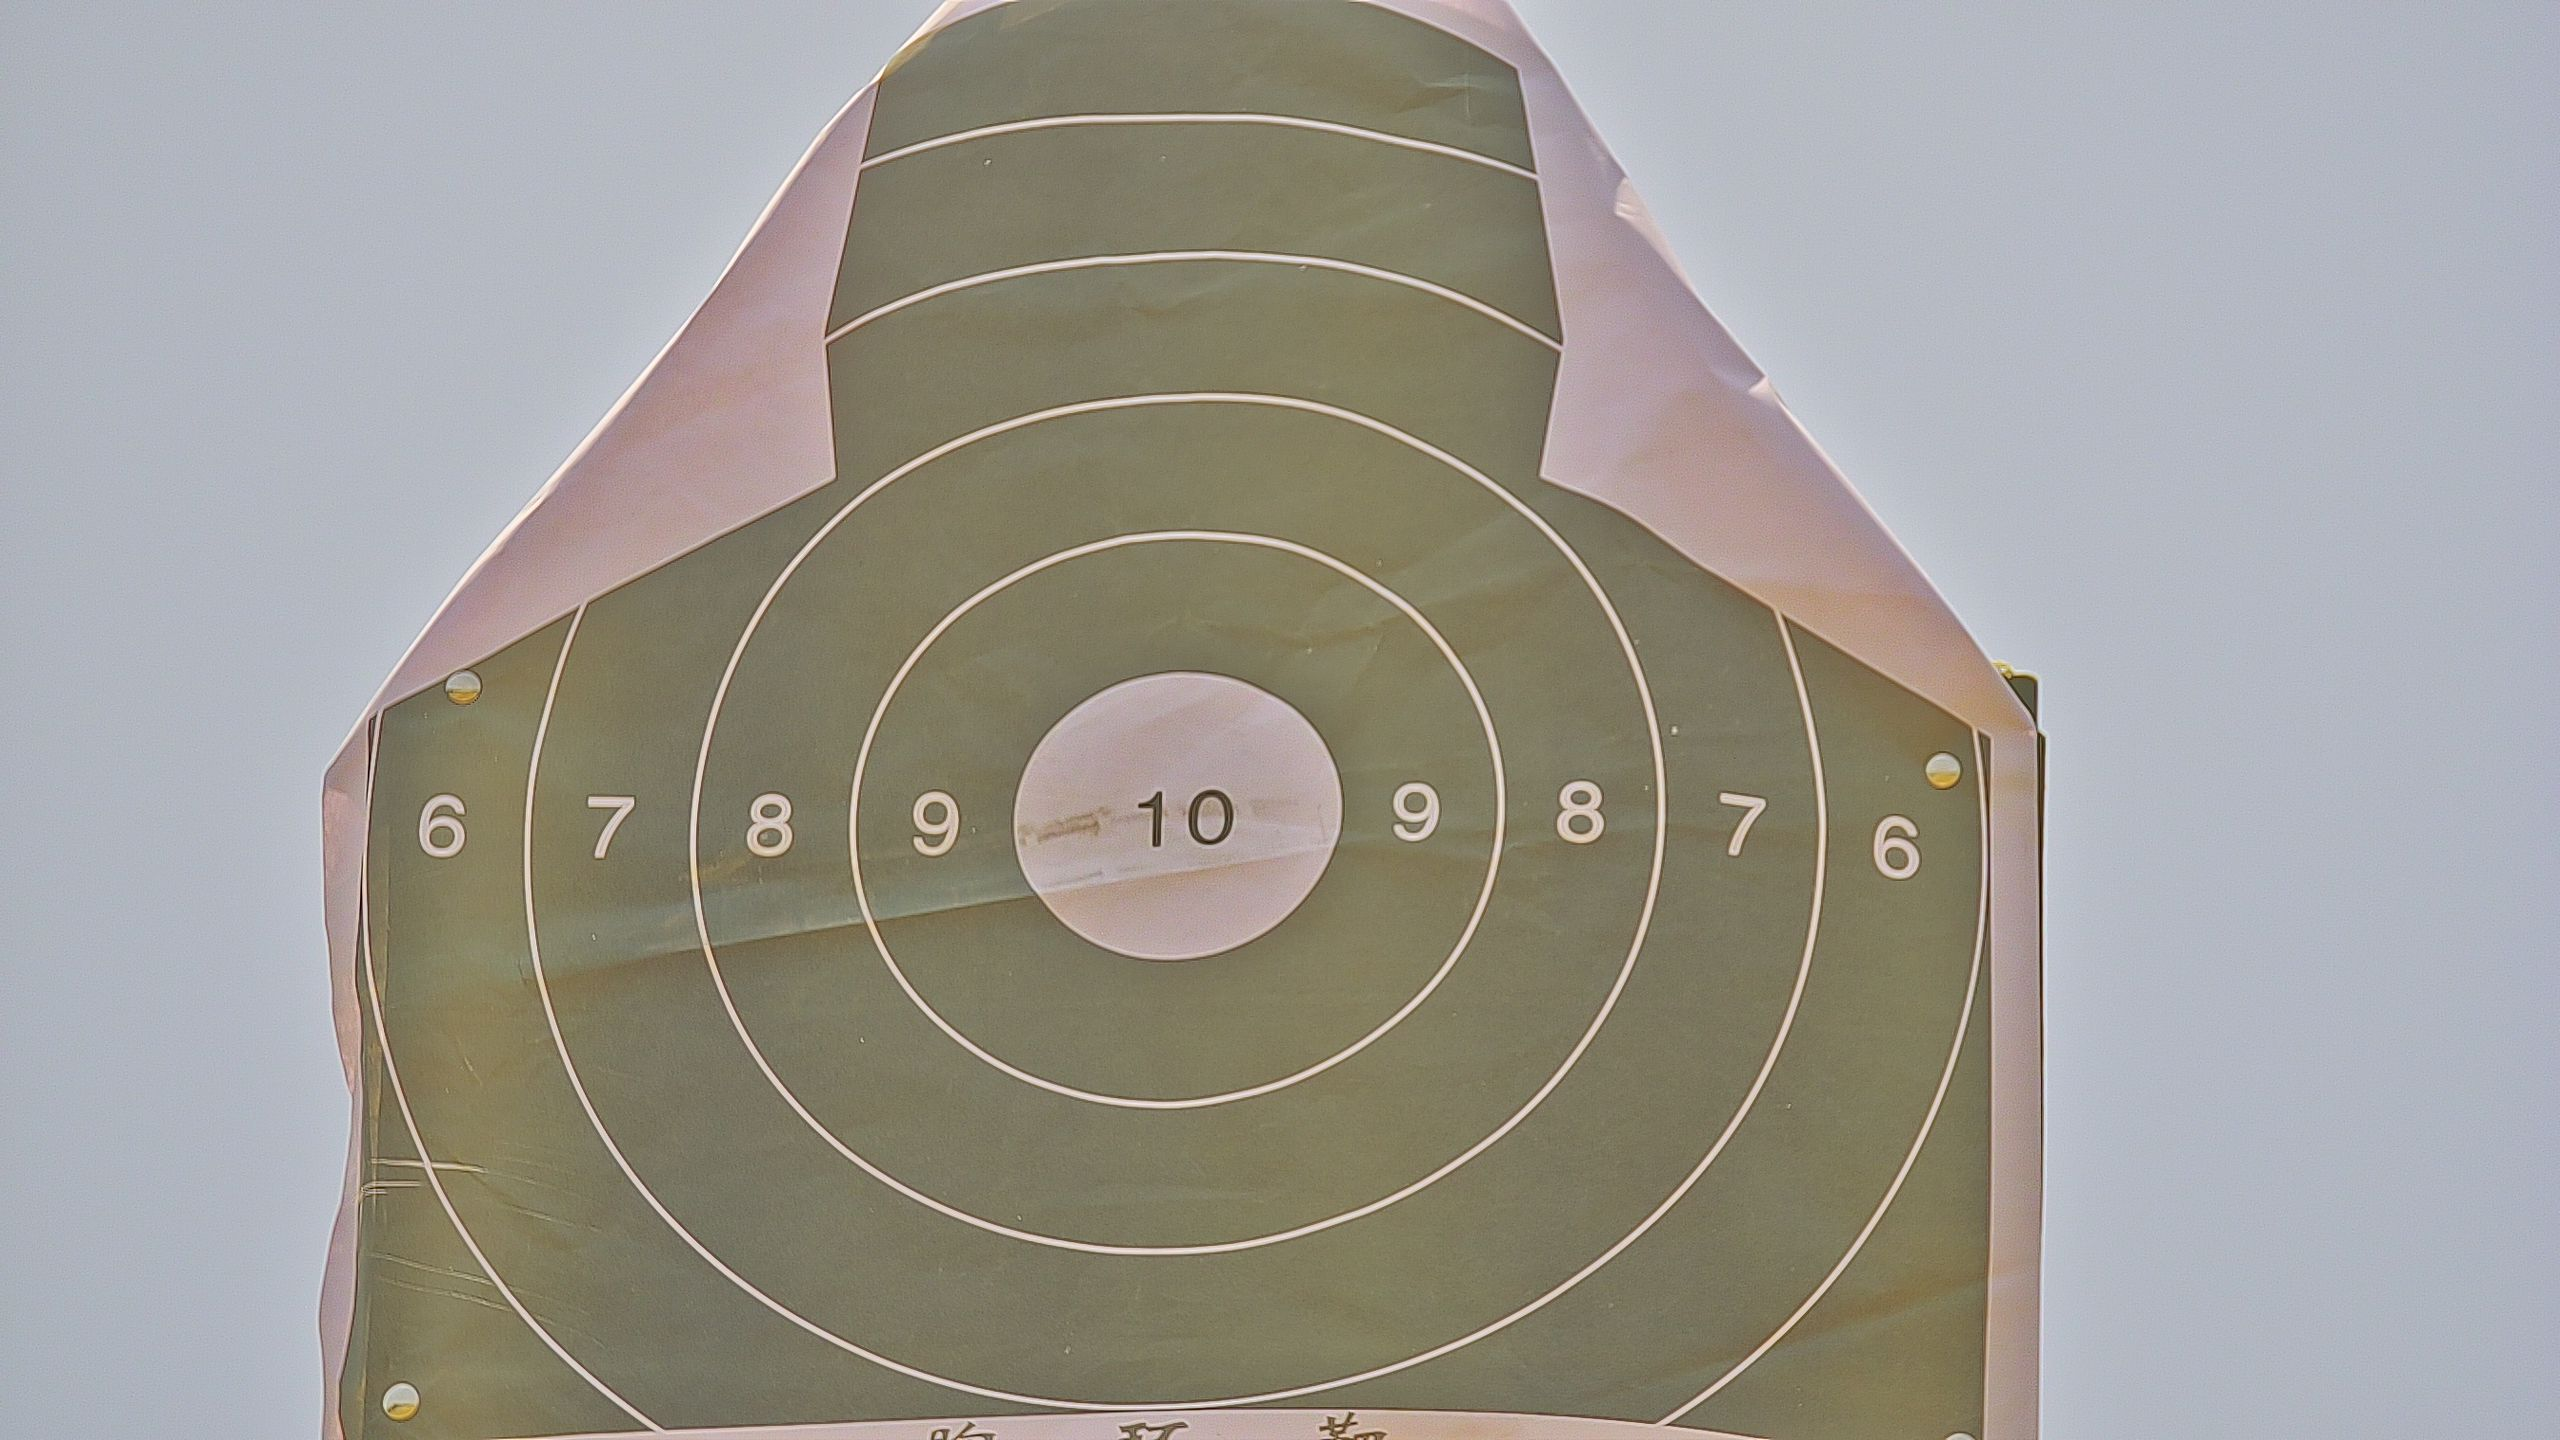kernel: (1173, 819, 1178, 826)
target: (332, 7, 1990, 1440)
ten: (1009, 673, 1343, 964)
